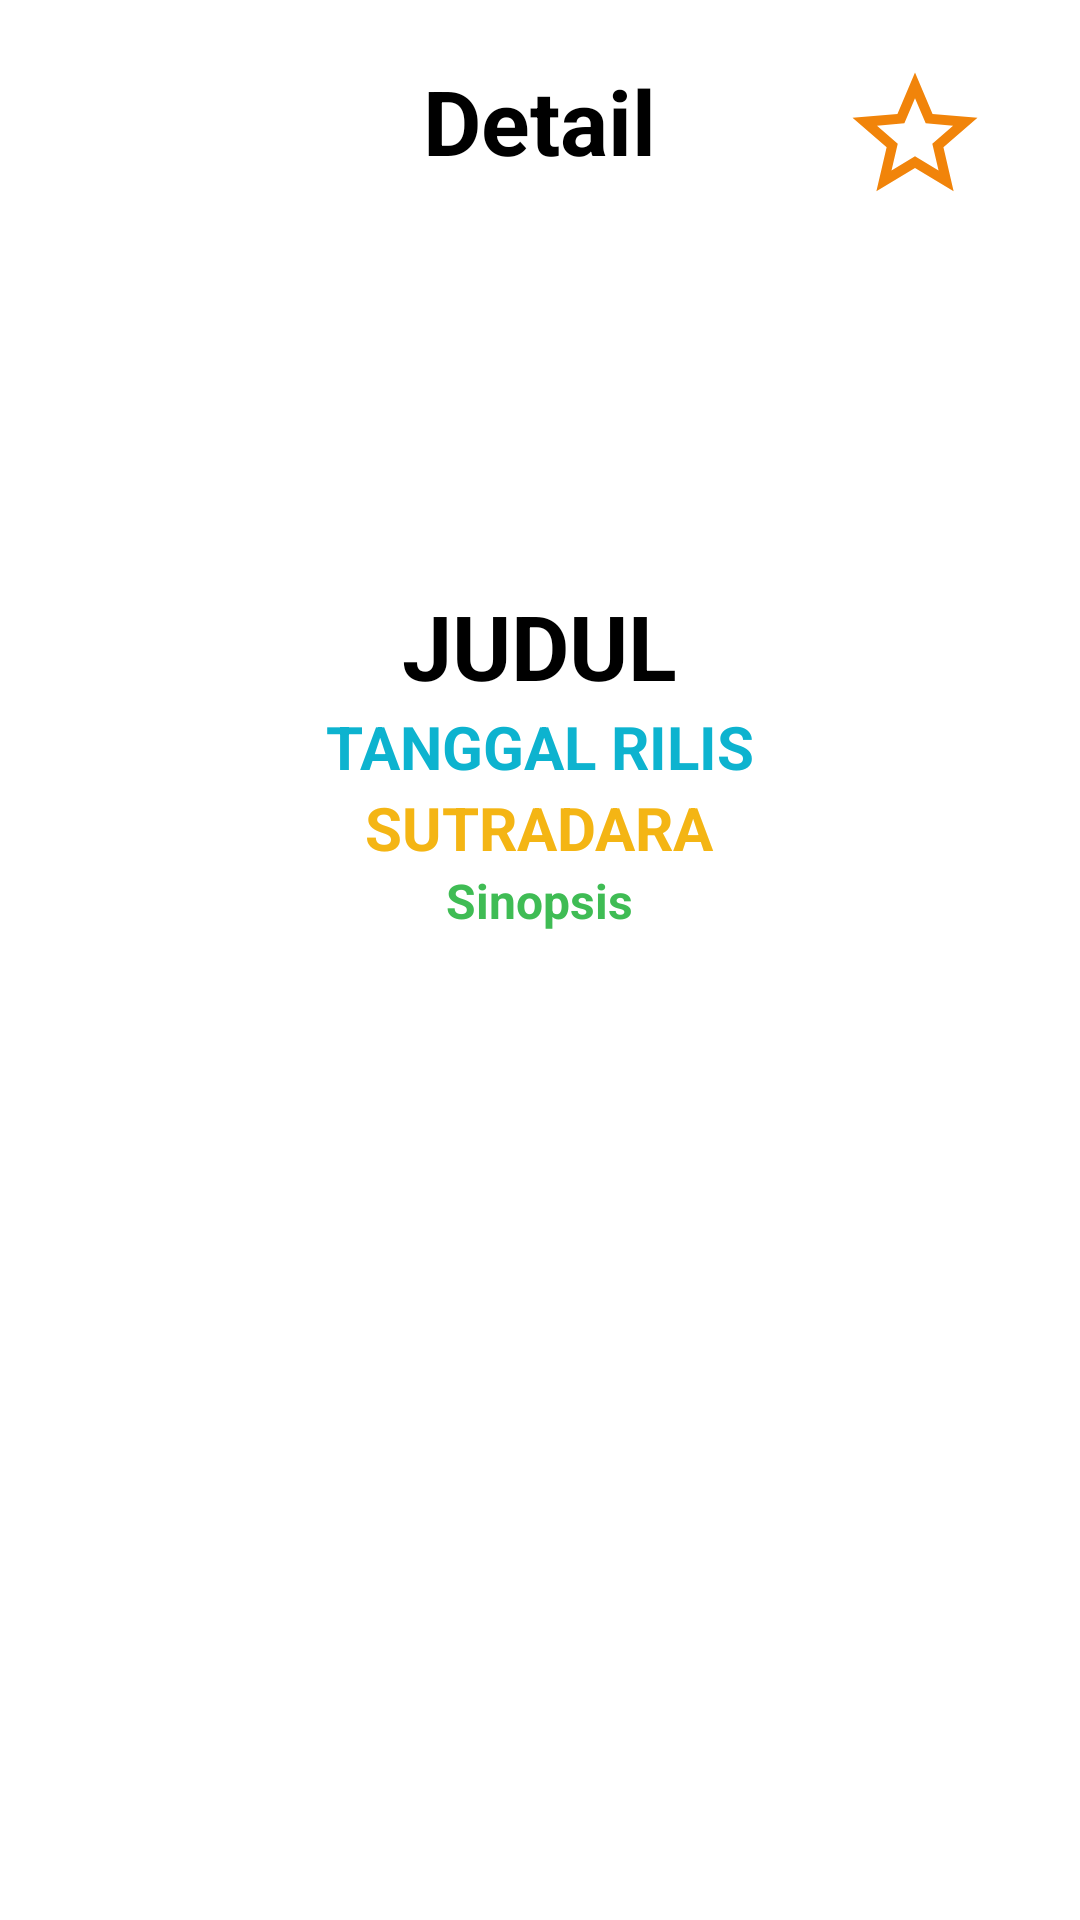

Icon click points for this 1080w x 1920h phone screenshot, format [x,y]:
star border: [915,132]
